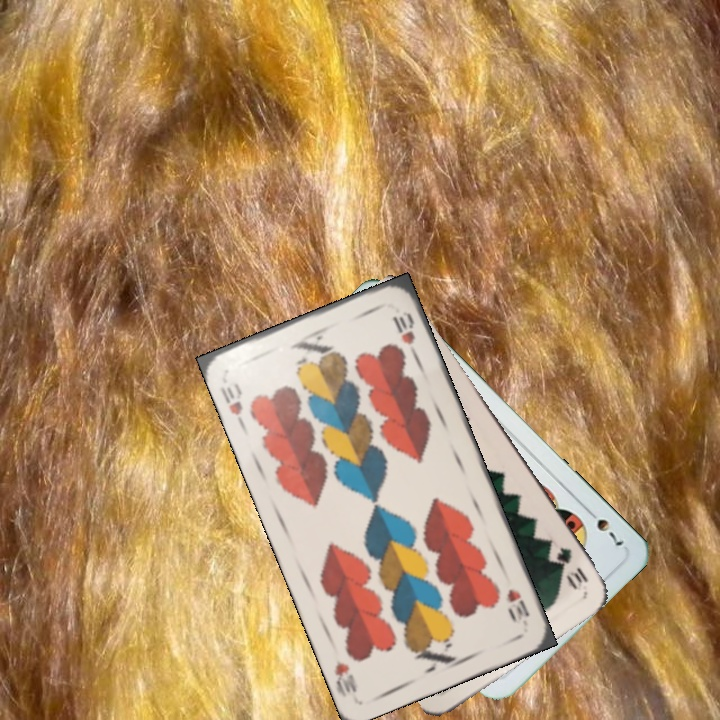G10: (552, 542, 591, 593)
H10: (216, 378, 248, 430), (502, 585, 532, 627)
S7: (581, 504, 627, 549)
